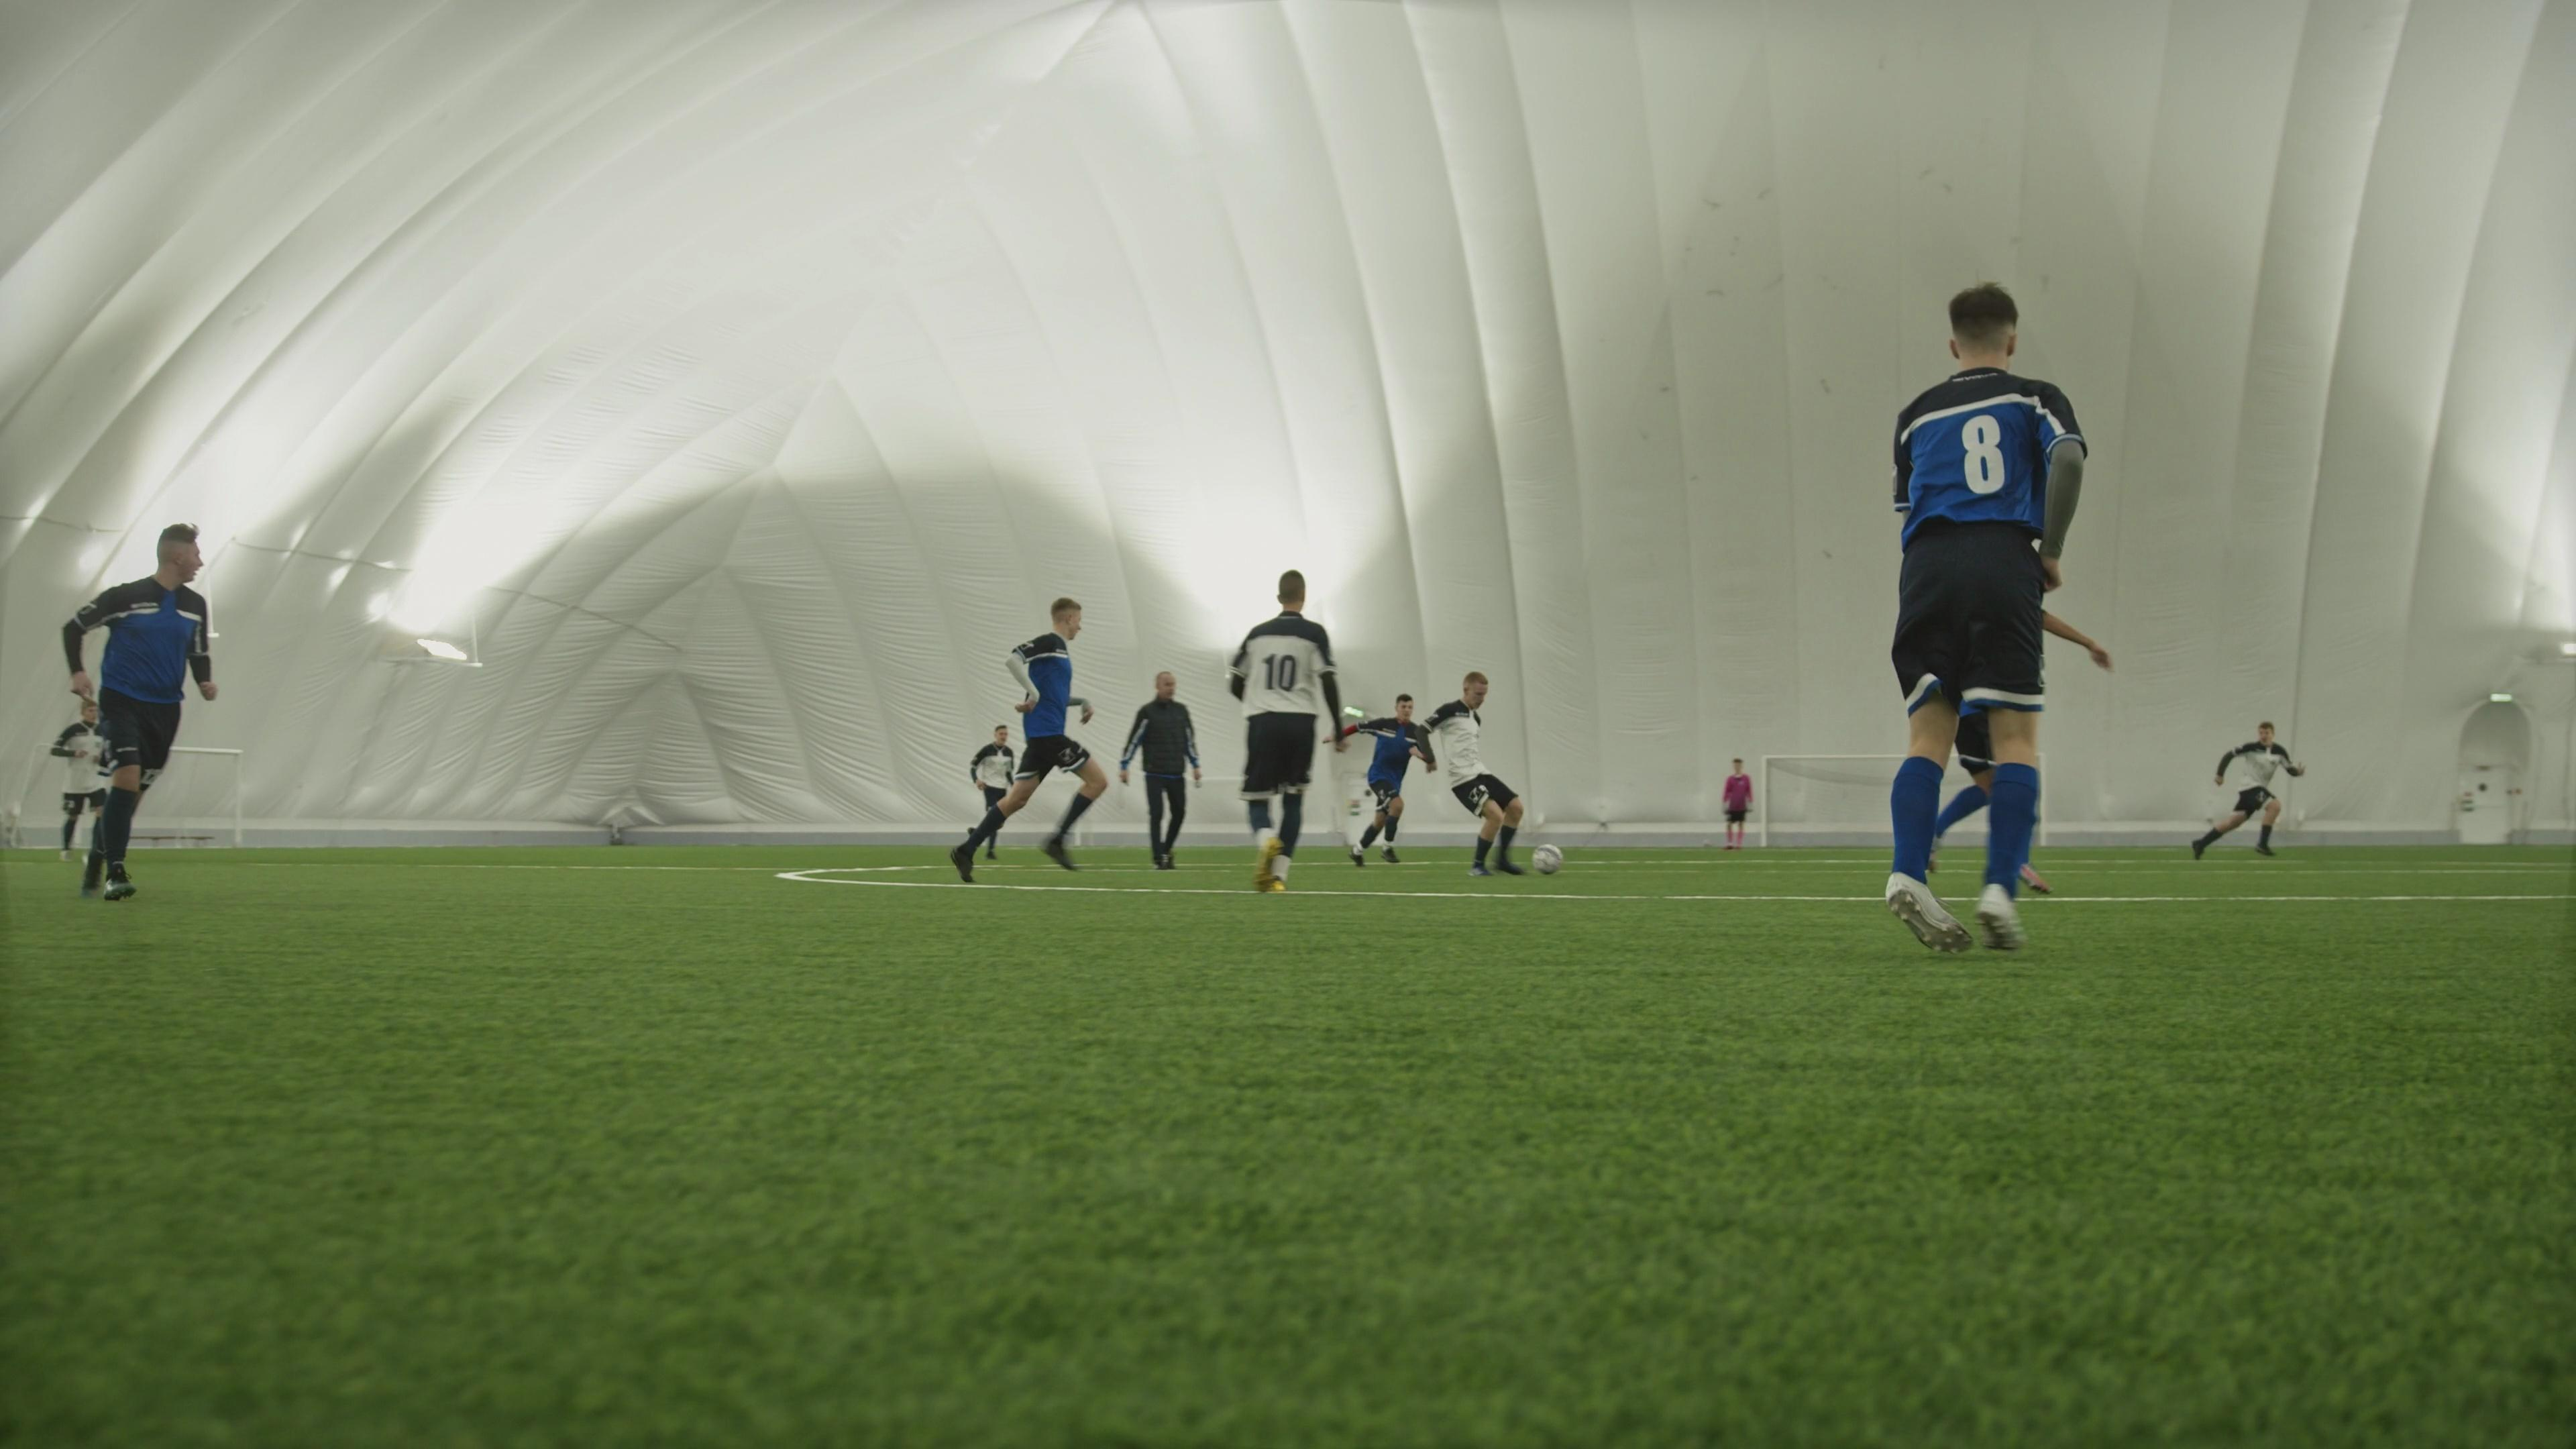other: (1125, 671, 1205, 870)
team1: (1881, 281, 2095, 955), (58, 522, 216, 904), (952, 593, 1108, 883), (1353, 688, 1431, 867)
team1gk: (1720, 757, 1757, 849)
team2: (1230, 568, 1343, 892), (1428, 667, 1522, 876), (2189, 720, 2312, 855), (60, 695, 115, 881), (973, 720, 1021, 856)
